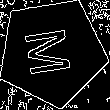M_E: (24, 25, 81, 79)
